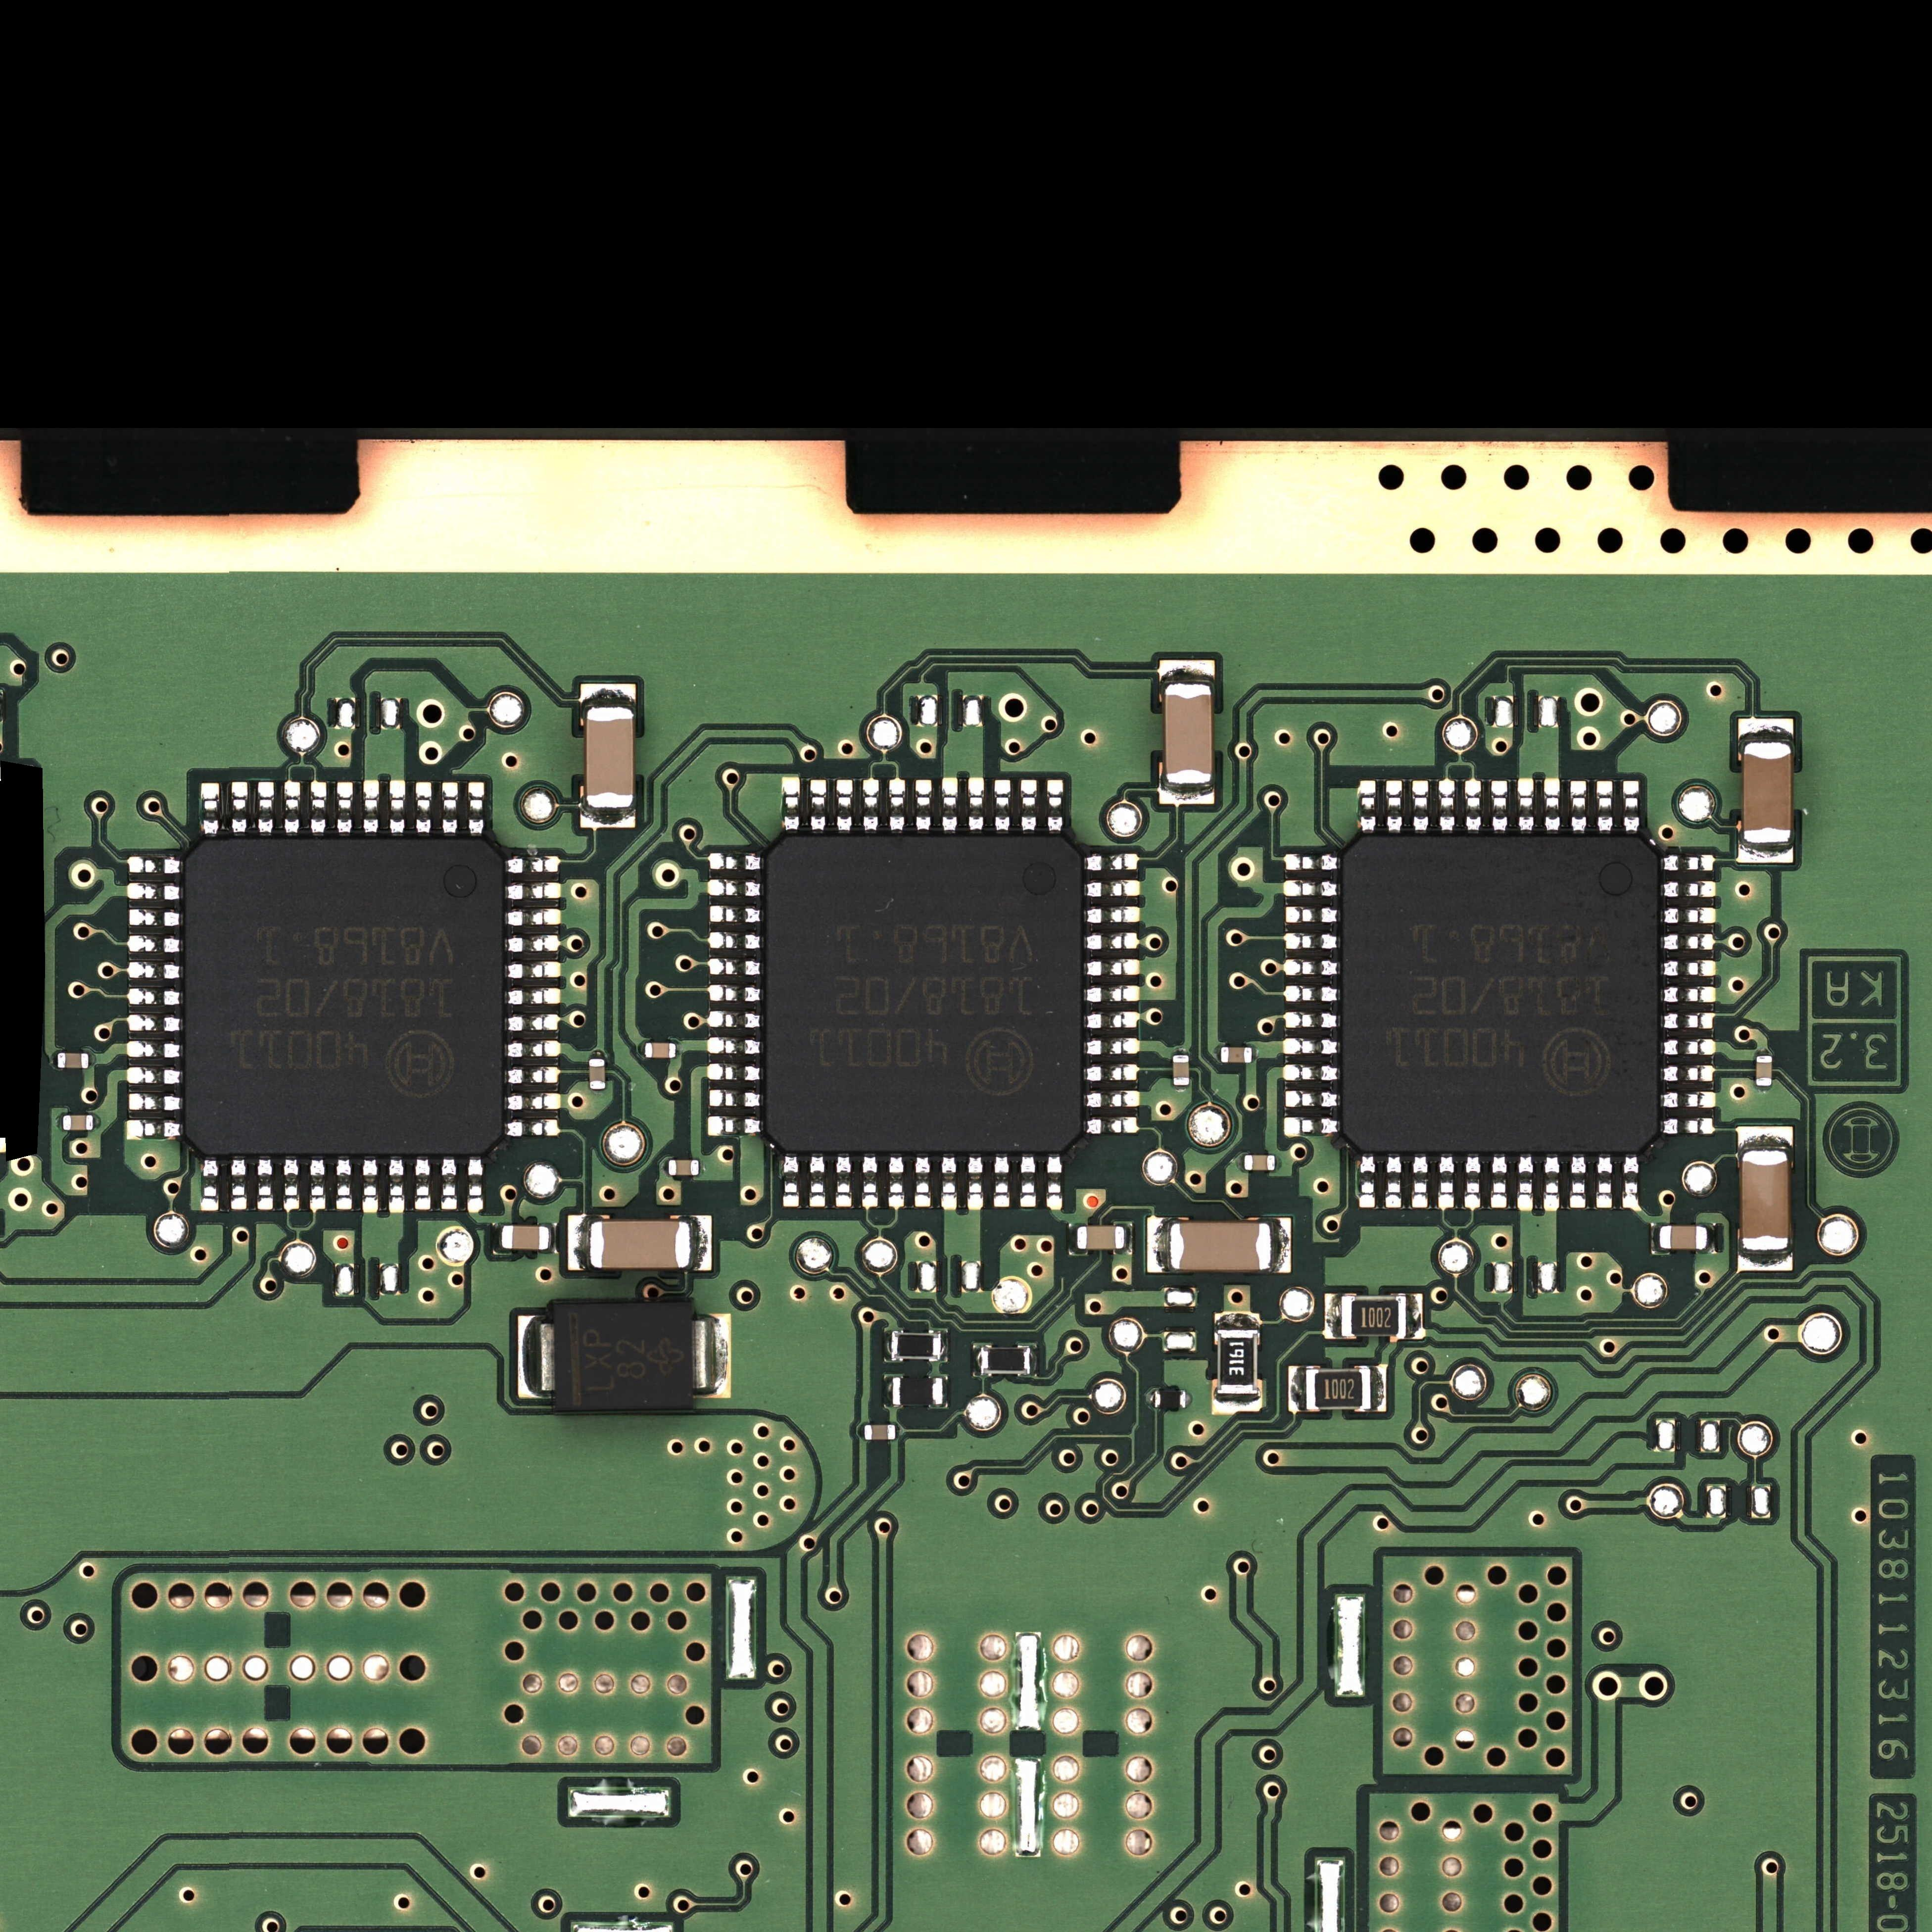Package: (1343, 835, 1658, 1152), (184, 840, 502, 1154), (766, 837, 1081, 1152), (554, 1304, 692, 1410), (1169, 1221, 1272, 1270), (589, 1221, 692, 1269), (586, 708, 633, 807), (1743, 743, 1790, 842), (1164, 685, 1212, 784), (1741, 1150, 1789, 1249), (1306, 1368, 1371, 1410), (1341, 1297, 1407, 1338), (1217, 1330, 1258, 1394), (892, 1378, 943, 1405), (980, 1348, 1030, 1375), (892, 1334, 941, 1359), (1660, 1226, 1707, 1249), (502, 1226, 548, 1249), (1077, 1226, 1123, 1249), (1155, 1391, 1185, 1408), (1221, 1047, 1253, 1063), (646, 1042, 676, 1058), (589, 1060, 605, 1090), (58, 1053, 88, 1069), (865, 1424, 895, 1440), (1173, 1054, 1189, 1085), (64, 1115, 92, 1131), (1244, 1155, 1276, 1169), (669, 1161, 699, 1175), (1757, 1056, 1771, 1086)
Solder: (692, 1313, 731, 1398), (517, 1315, 554, 1398), (1159, 660, 1214, 685), (1739, 718, 1794, 743), (1146, 1217, 1169, 1274), (580, 685, 635, 708), (1737, 1127, 1792, 1150), (126, 1120, 184, 1141), (1737, 842, 1794, 863), (568, 1215, 589, 1270), (1159, 784, 1214, 805), (127, 987, 184, 1007), (708, 1116, 764, 1136), (1284, 1116, 1341, 1136), (1272, 1217, 1292, 1274), (129, 908, 184, 927), (127, 961, 182, 980), (580, 809, 635, 828), (506, 908, 561, 927), (506, 961, 561, 980), (692, 1215, 711, 1270), (1737, 1251, 1792, 1270), (126, 1067, 184, 1085), (1357, 780, 1376, 833), (127, 856, 184, 874), (127, 883, 184, 901), (126, 1040, 182, 1058), (127, 1014, 184, 1031), (941, 777, 959, 833), (504, 1120, 561, 1138), (1284, 906, 1341, 924), (1085, 881, 1141, 899), (1284, 879, 1341, 897), (1284, 959, 1341, 977), (310, 782, 327, 837), (202, 1157, 219, 1212), (127, 1093, 182, 1111), (915, 778, 932, 833), (709, 853, 764, 870), (709, 906, 764, 924), (782, 777, 800, 832), (709, 932, 764, 950), (709, 959, 764, 977), (506, 883, 561, 901), (506, 856, 561, 874), (506, 936, 561, 954), (809, 1154, 826, 1208), (709, 1063, 764, 1081), (709, 1090, 764, 1108), (709, 1010, 764, 1028), (709, 1037, 764, 1054), (506, 987, 561, 1005), (506, 1014, 561, 1031), (506, 1040, 561, 1058), (506, 1067, 561, 1085), (506, 1093, 561, 1111), (1085, 906, 1139, 924), (1286, 932, 1341, 950), (1085, 959, 1139, 977), (1085, 985, 1139, 1003), (1085, 1090, 1139, 1108), (1284, 1090, 1339, 1108), (1569, 1154, 1587, 1208), (202, 784, 219, 837), (230, 1157, 248, 1210), (414, 1157, 432, 1210), (709, 879, 763, 897), (862, 780, 879, 833), (782, 1154, 800, 1207), (1412, 780, 1430, 833), (1385, 780, 1403, 833), (1085, 932, 1138, 950), (1085, 1063, 1138, 1081), (1019, 1154, 1037, 1207), (1083, 1116, 1136, 1134), (1596, 780, 1614, 833), (1622, 780, 1640, 833), (1661, 985, 1714, 1003), (389, 780, 405, 837), (127, 936, 184, 952), (968, 777, 984, 833), (1284, 855, 1341, 870), (1212, 1394, 1261, 1412), (363, 780, 379, 835), (469, 782, 485, 837), (257, 1155, 272, 1210), (389, 1157, 405, 1212), (837, 778, 853, 833), (810, 778, 826, 833), (915, 1154, 931, 1208), (709, 985, 764, 1001), (968, 1154, 984, 1208), (941, 1154, 957, 1208), (1021, 778, 1037, 833), (1359, 1154, 1375, 1208), (1412, 1154, 1428, 1208), (994, 1154, 1010, 1208), (1284, 1065, 1339, 1081), (1284, 985, 1339, 1001), (1284, 1039, 1339, 1054), (1385, 1154, 1401, 1208), (1545, 778, 1560, 833), (1596, 1154, 1612, 1208), (1491, 1154, 1507, 1208), (1660, 1092, 1714, 1108), (1465, 1154, 1481, 1208), (1545, 1154, 1560, 1208), (336, 782, 352, 835), (416, 782, 432, 835), (258, 782, 274, 835), (442, 782, 458, 835), (232, 782, 248, 835), (285, 782, 301, 835), (441, 1157, 456, 1210), (283, 1157, 299, 1210), (363, 1157, 379, 1210), (336, 1157, 352, 1210), (310, 1157, 326, 1210), (467, 1157, 483, 1210), (890, 780, 906, 833), (888, 1154, 904, 1207), (835, 1154, 851, 1207), (862, 1154, 878, 1207), (994, 780, 1010, 833), (1085, 855, 1138, 870), (1047, 780, 1063, 833), (1438, 780, 1454, 833), (1046, 1154, 1062, 1207), (1085, 1012, 1138, 1028), (1286, 1012, 1339, 1028), (1438, 1154, 1454, 1207), (1085, 1039, 1138, 1054), (1518, 780, 1534, 833), (1571, 780, 1587, 833), (1491, 780, 1507, 833), (1661, 908, 1714, 924), (1661, 881, 1714, 897), (1465, 780, 1481, 833), (1661, 961, 1714, 977), (1660, 1118, 1713, 1134), (1622, 1155, 1638, 1208), (1661, 855, 1713, 870), (1661, 934, 1713, 950), (1661, 1065, 1713, 1081), (1661, 1012, 1713, 1028), (1661, 1039, 1713, 1054), (1288, 1366, 1306, 1412), (1518, 1154, 1532, 1208), (1214, 1313, 1260, 1329), (1325, 1293, 1341, 1339), (1407, 1293, 1422, 1339), (1371, 1366, 1387, 1412), (492, 1223, 501, 1254), (548, 1223, 557, 1254), (883, 1330, 892, 1362), (1123, 1223, 1132, 1254), (1651, 1223, 1660, 1254), (1069, 1224, 1077, 1254), (941, 1330, 948, 1362), (973, 1345, 980, 1376), (1030, 1345, 1037, 1376), (1707, 1223, 1714, 1254), (885, 1376, 892, 1407), (943, 1376, 948, 1408), (589, 1051, 605, 1060), (637, 1042, 646, 1058), (1148, 1391, 1155, 1408), (1185, 1391, 1192, 1408), (1755, 1049, 1773, 1056), (94, 1115, 101, 1131), (55, 1115, 62, 1131), (88, 1053, 96, 1069), (51, 1053, 58, 1069), (676, 1042, 683, 1058), (858, 1424, 865, 1440), (895, 1424, 902, 1440), (1173, 1047, 1189, 1054), (1173, 1085, 1189, 1092), (1276, 1155, 1283, 1171), (1214, 1046, 1221, 1062), (1237, 1155, 1244, 1171), (1755, 1086, 1771, 1093), (699, 1161, 706, 1175), (662, 1161, 669, 1175), (589, 1090, 605, 1095), (1253, 1047, 1258, 1062)
